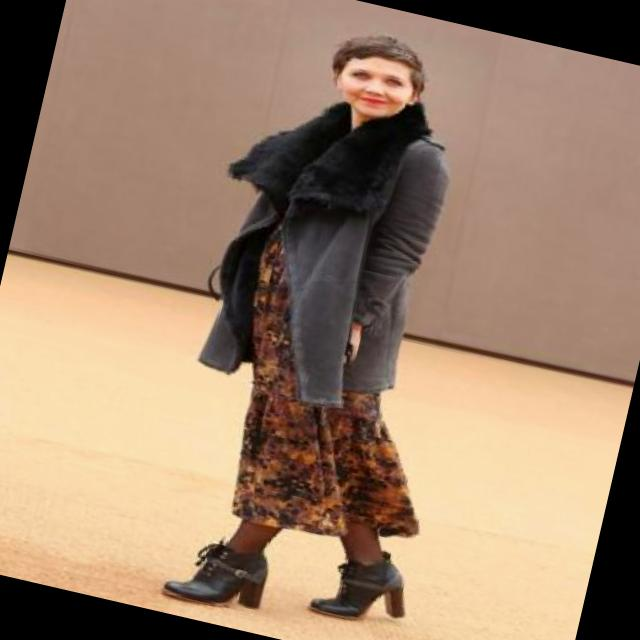Person: (93, 0, 569, 640)
